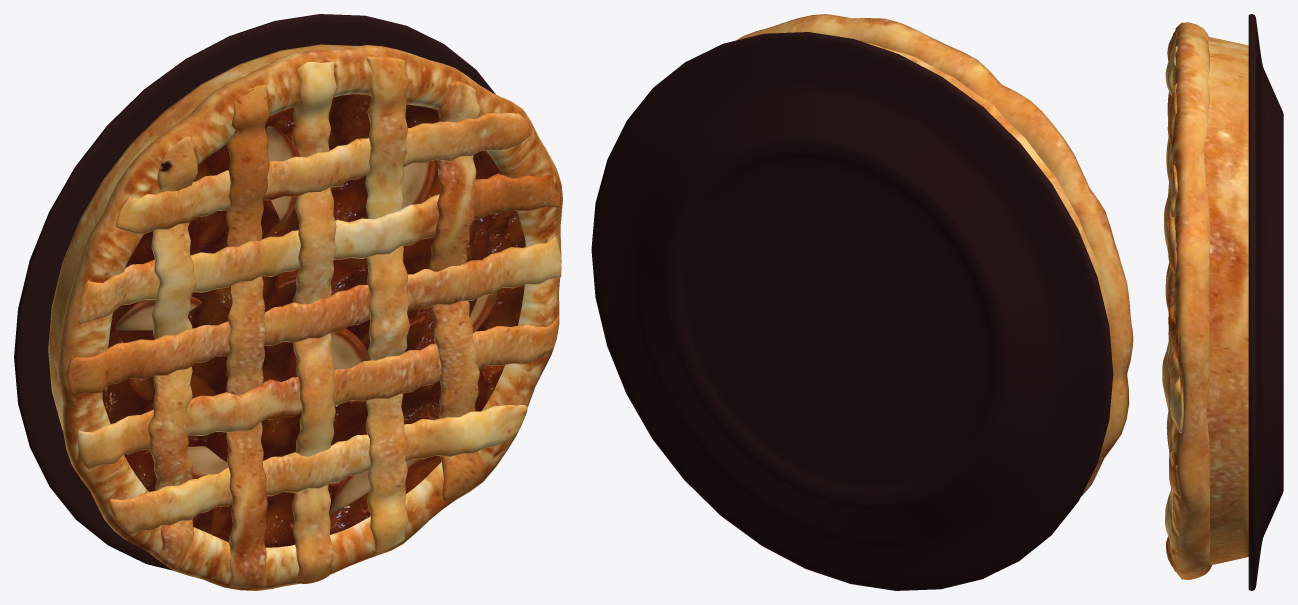
3 renders of one model, left to right at view 1: azimuth 30°, elevation 25°; view 2: azimuth 150°, elevation 25°; view 3: azimuth 270°, elevation 25°, orthographic. The views are drawn at different scales.
Visible parts, largest first — view 1: 11547_Desert_pie, 11547_Dessert_Pie_Plate; view 2: 11547_Dessert_Pie_Plate, 11547_Desert_pie; view 3: 11547_Desert_pie, 11547_Dessert_Pie_Plate.
Boxes of the visible parts, <box> form: 11547_Desert_pie: <box>48,44,562,590</box>; 11547_Dessert_Pie_Plate: <box>14,14,495,570</box>; 11547_Dessert_Pie_Plate: <box>591,32,1113,590</box>; 11547_Desert_pie: <box>736,14,1133,496</box>; 11547_Desert_pie: <box>1162,22,1248,579</box>; 11547_Dessert_Pie_Plate: <box>1248,14,1283,590</box>.
Bounding box in the file's own units: 25.62 × 25.62 × 5.37.
Materials: 2 (1 with a texture image).
